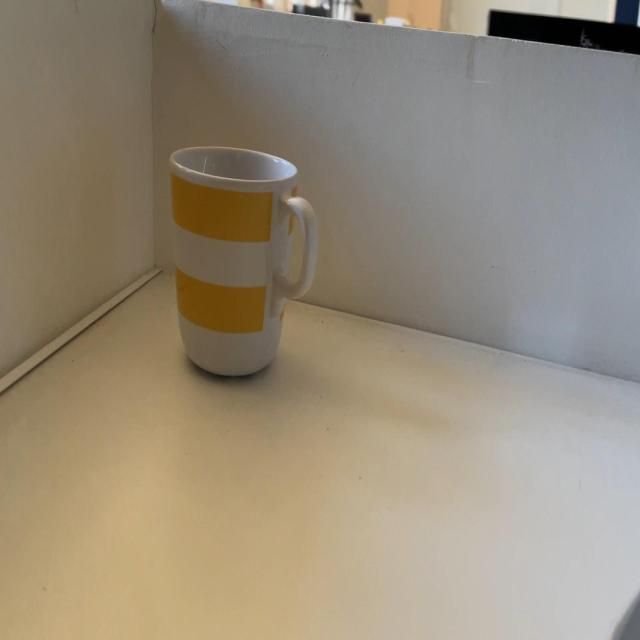cup: (164, 144, 321, 384)
